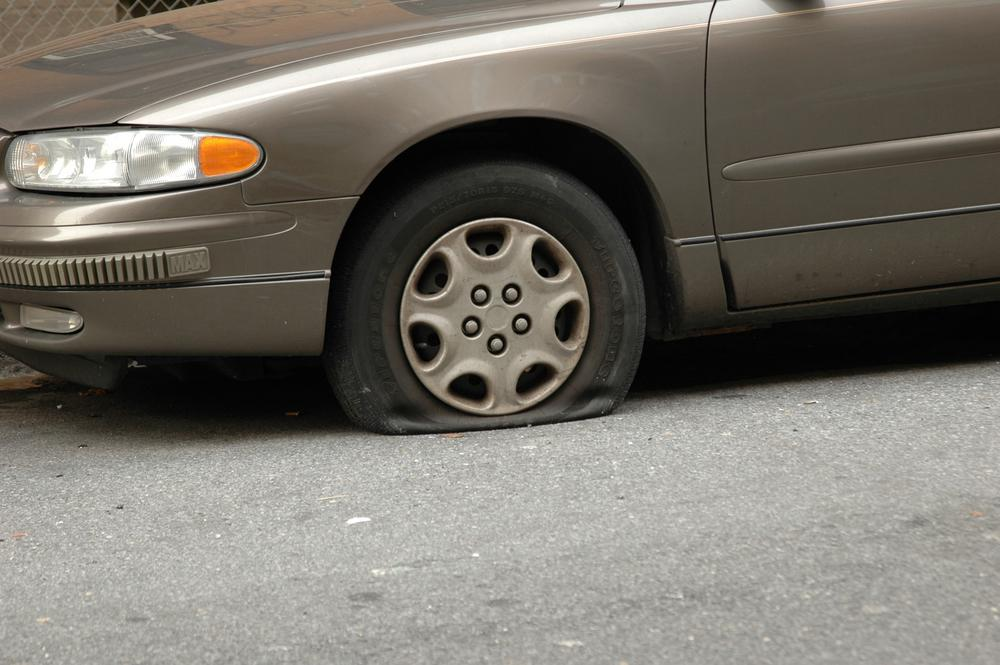tire flat: (324, 163, 646, 435)
